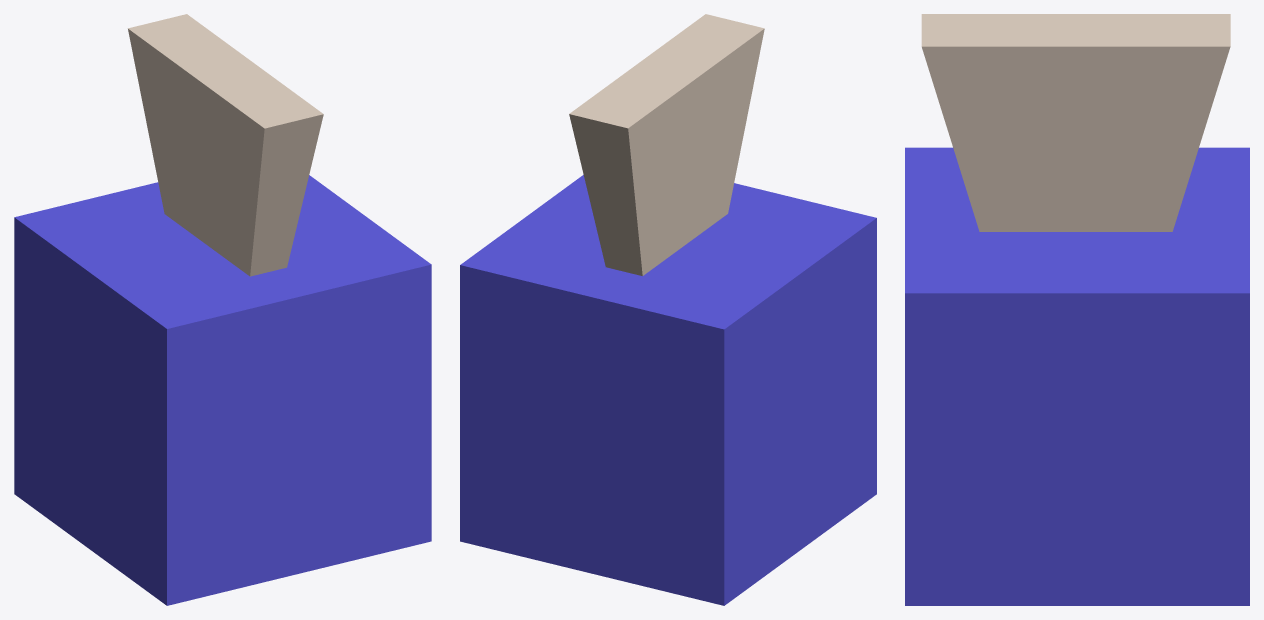
Rendered from Tissue.fbx.
3 renders of one model, left to right at view 1: azimuth 30°, elevation 25°; view 2: azimuth 150°, elevation 25°; view 3: azimuth 270°, elevation 25°, orthographic. The views are drawn at different scales.
Visible parts, largest first — view 1: Tissue; view 2: Tissue; view 3: Tissue.
Part boxes in pixels (left/top/right/bottom): Tissue: left=14, top=14, right=431, bottom=605; Tissue: left=460, top=14, right=876, bottom=605; Tissue: left=905, top=14, right=1249, bottom=605.
Size of the model in its own units: 42.03 by 67.76 by 42.03.
